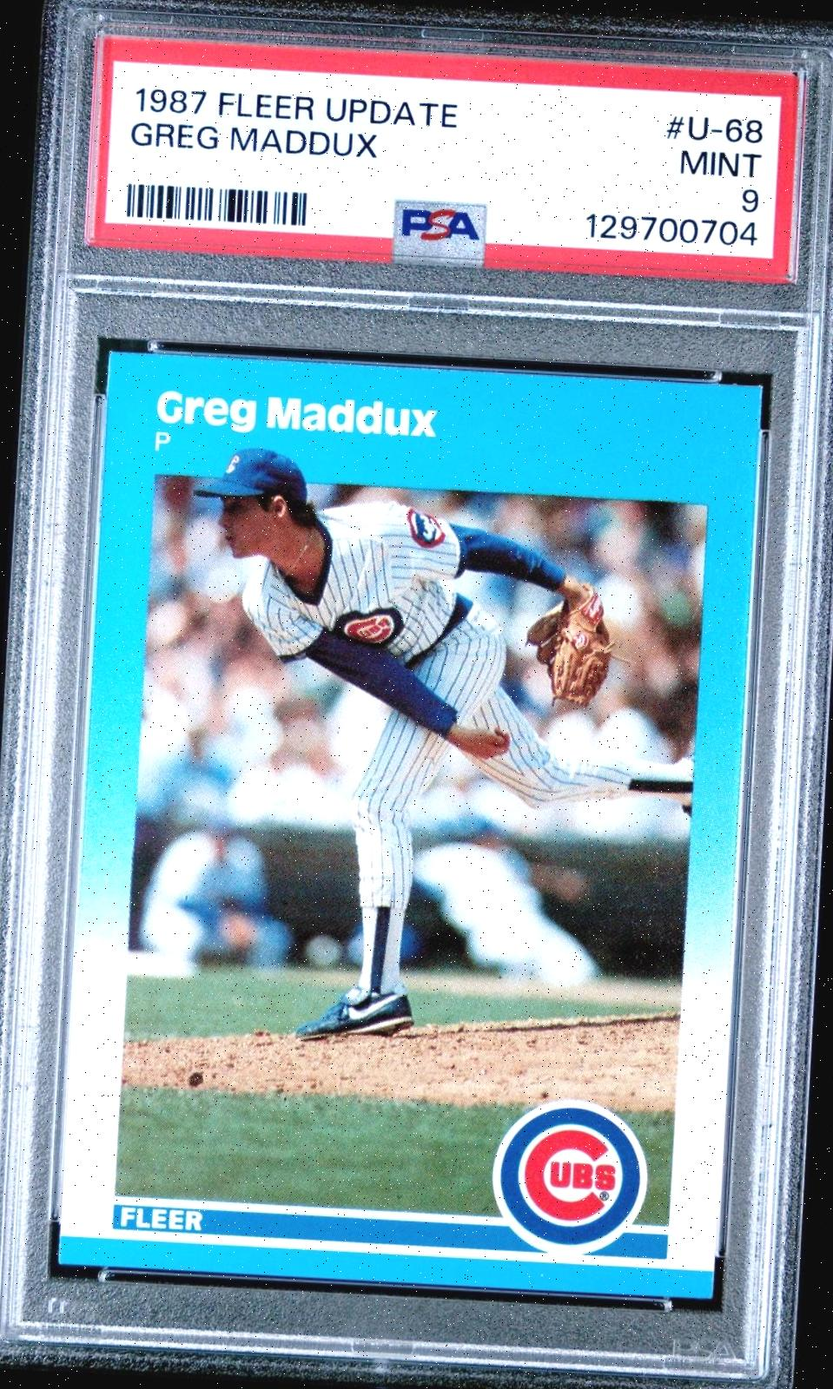card-2UtV: (57, 350, 764, 1300)
